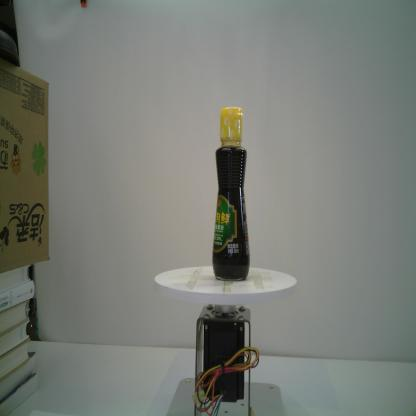Seasoner: (212, 106, 251, 282)
